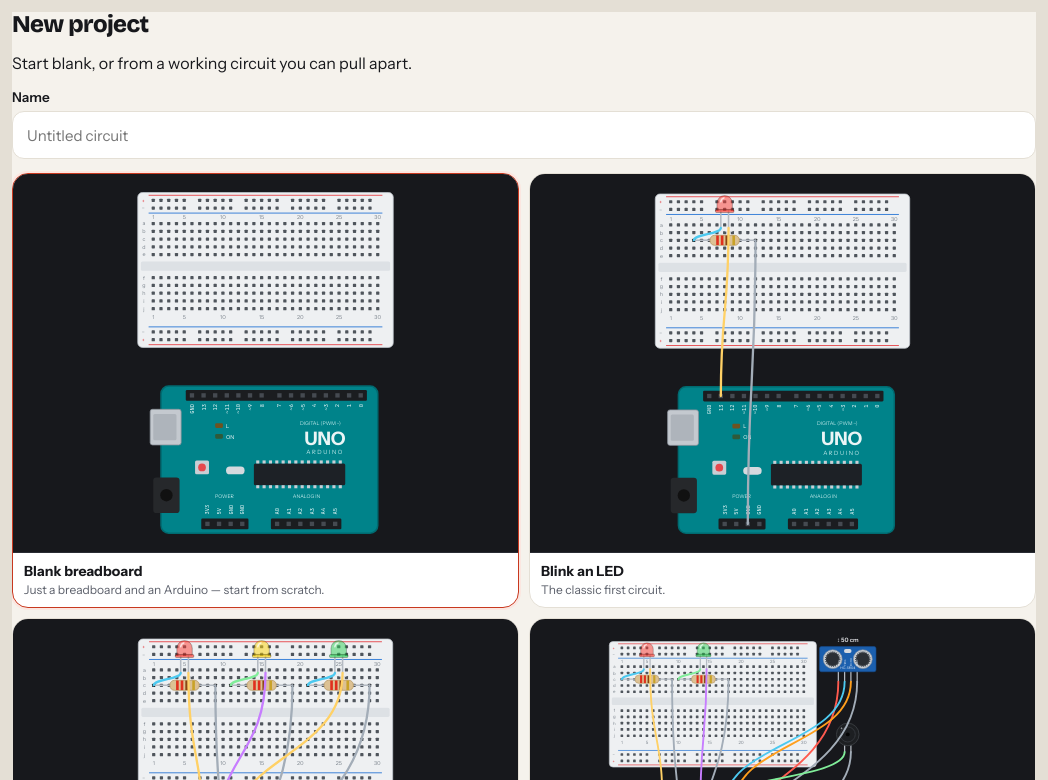
NewProjectModal › starts on the "blank" template and lets you pick another
Click the button named ".".
click(782, 391)  # box [529, 173, 1036, 608]
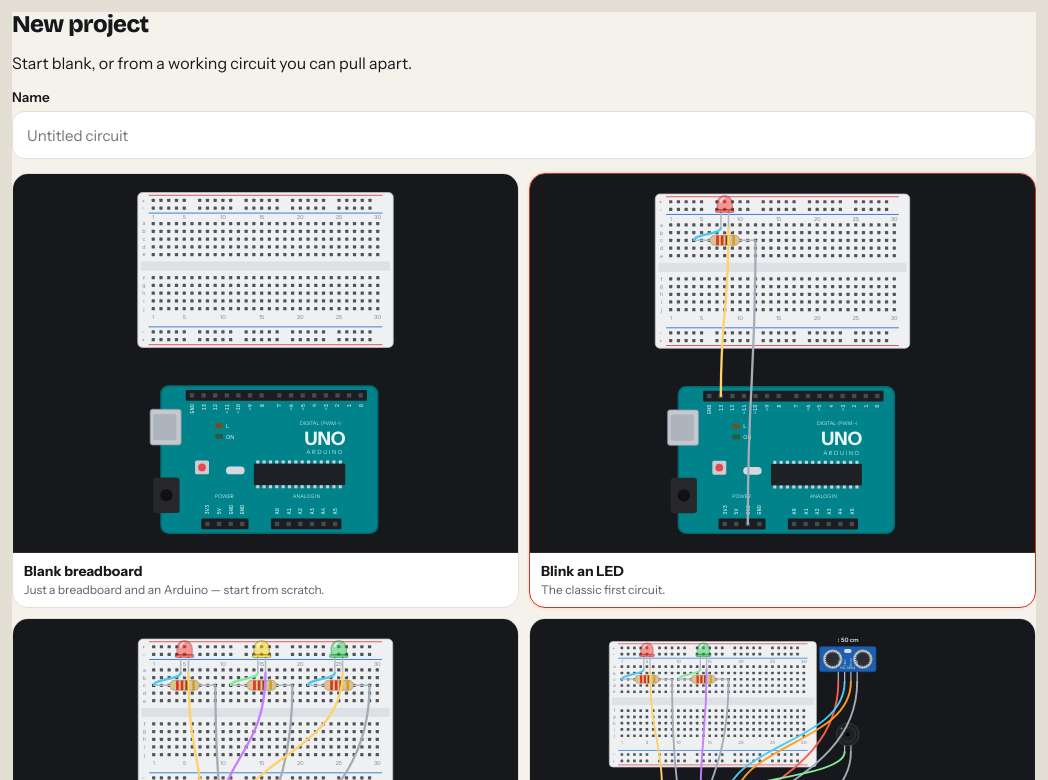
Now the button named "." has class "on", box [529, 173, 1036, 608]
